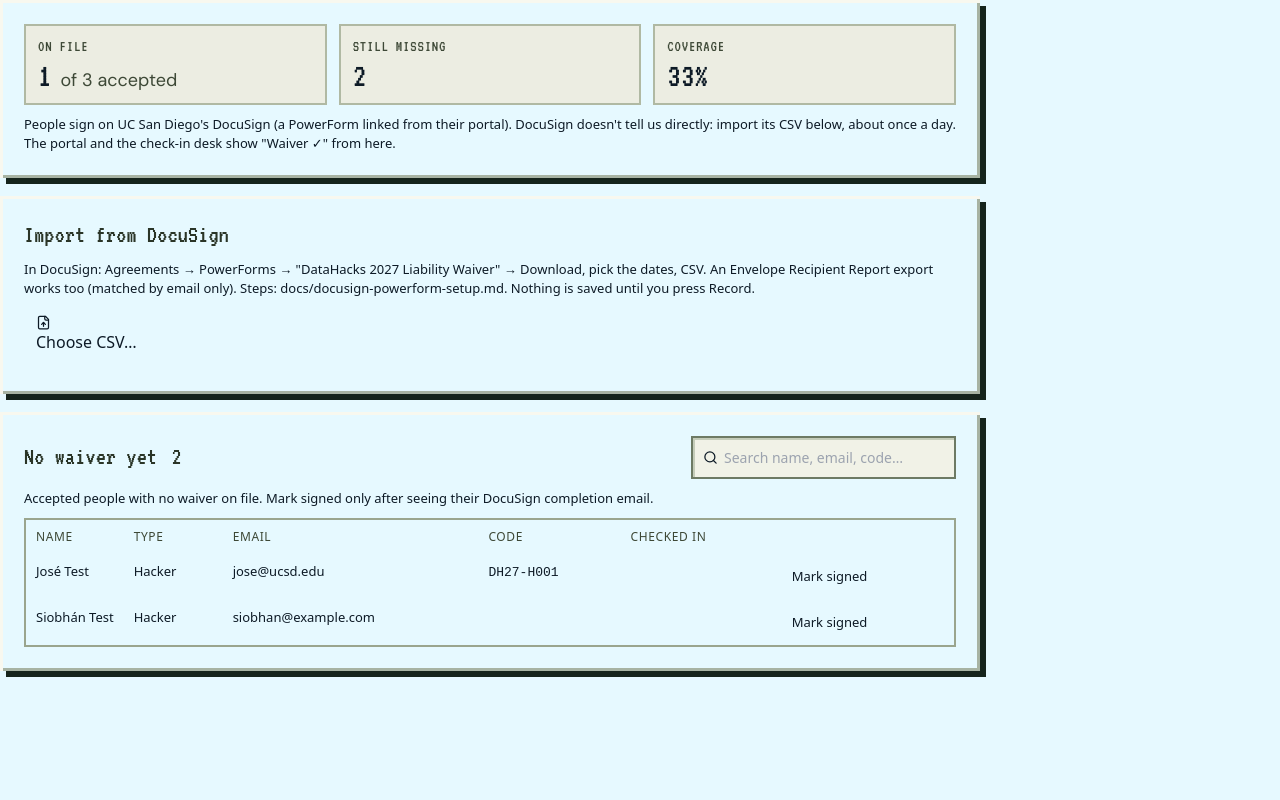
Scenario: Waivers page › explains a mark the database refused
Click the button "Mark signed" in the row of "Siobhán Test": (829, 623) [782, 608, 877, 637]
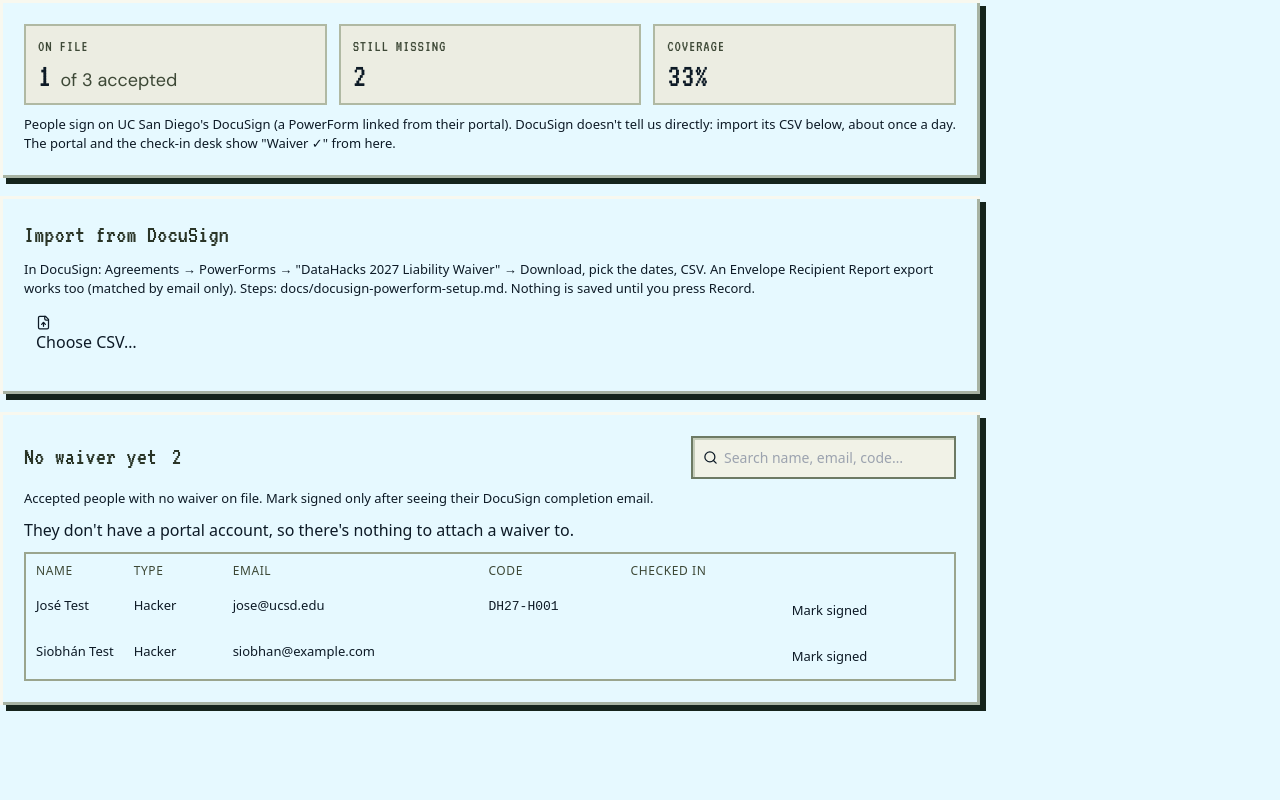
Expected: the text "They don't have a portal account, so there's nothing to attach a waiver to." is shown, [24, 519, 574, 541]
